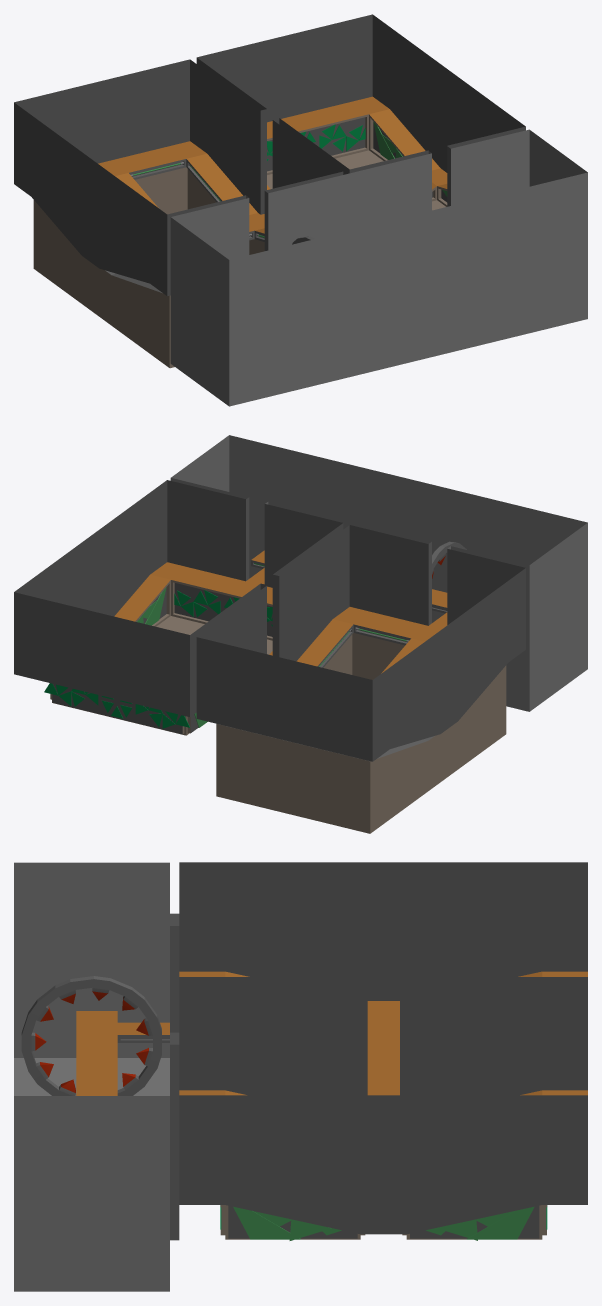
Rendered from map.fbx.
3 views of the same model, one above another, from view 1: azimuth 30°, elevation 25°; view 2: azimuth 150°, elevation 25°; view 3: azimuth 270°, elevation 25° (orthographic). The views are drawn at different scales.
Visible parts, largest first — view 1: polySurface18, polySurface19, polySurface20; view 2: polySurface19, polySurface20, polySurface18, pont; view 3: polySurface20, polySurface18, polySurface19, pGear1, pont, pCube1 (×2).
Boxes of the visible parts, left/top/right/bottom form: polySurface18: left=170, top=129, right=587, bottom=406; polySurface19: left=14, top=59, right=343, bottom=368; polySurface20: left=196, top=14, right=525, bottom=217; polySurface19: left=196, top=525, right=525, bottom=833; polySurface20: left=14, top=480, right=343, bottom=735; polySurface18: left=170, top=435, right=587, bottom=711; pont: left=246, top=550, right=447, bottom=628; polySurface20: left=179, top=980, right=587, bottom=1239; polySurface18: left=14, top=862, right=179, bottom=1291; polySurface19: left=179, top=862, right=587, bottom=1095; pGear1: left=21, top=976, right=161, bottom=1095; pont: left=76, top=1011, right=179, bottom=1161; pCube1 (×2): left=233, top=1206, right=534, bottom=1239.
Size of the model in its own units: 120 by 53.6 by 125.
